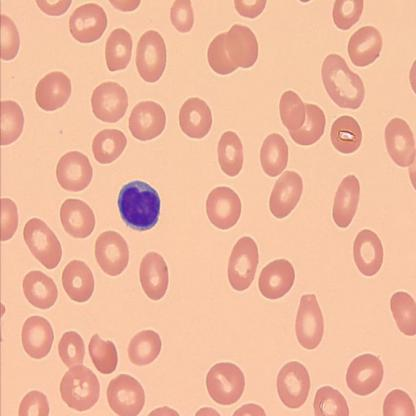Lymphocyte: (117, 178, 162, 233)
